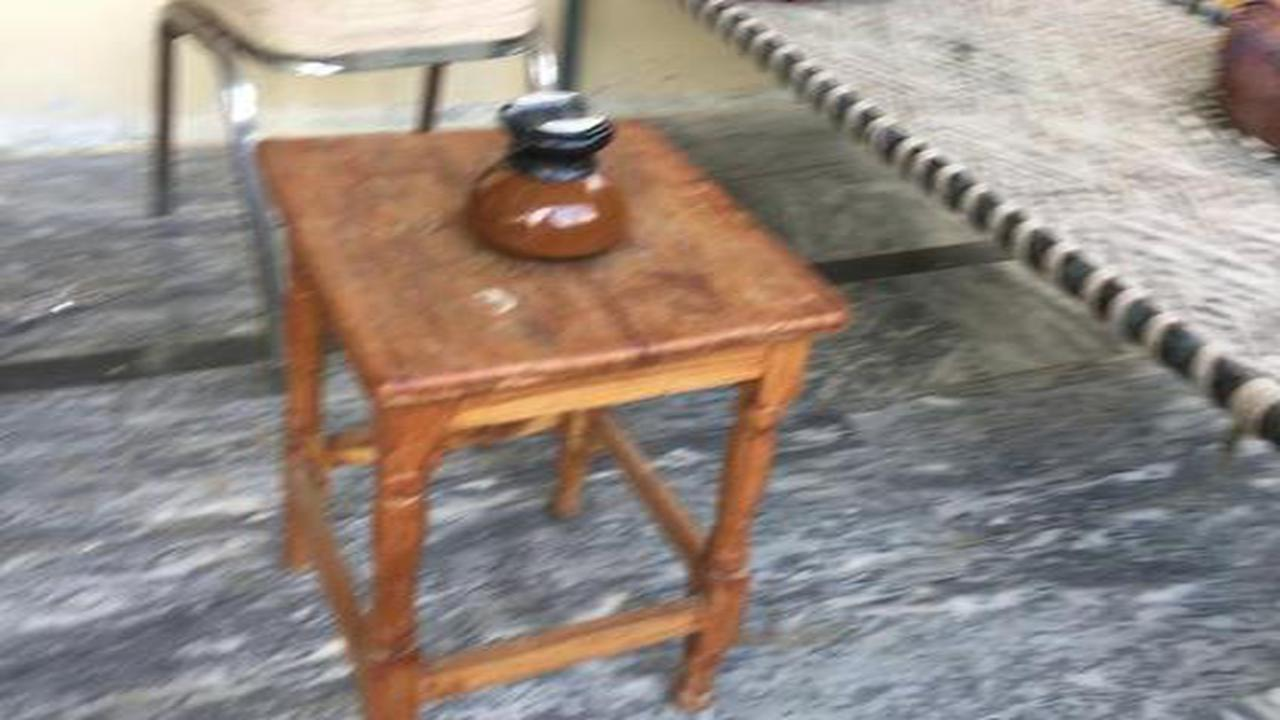insulator_pin: (456, 84, 641, 269)
